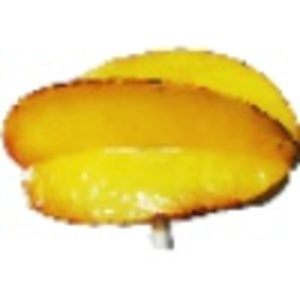carambola: (1, 45, 300, 246)
